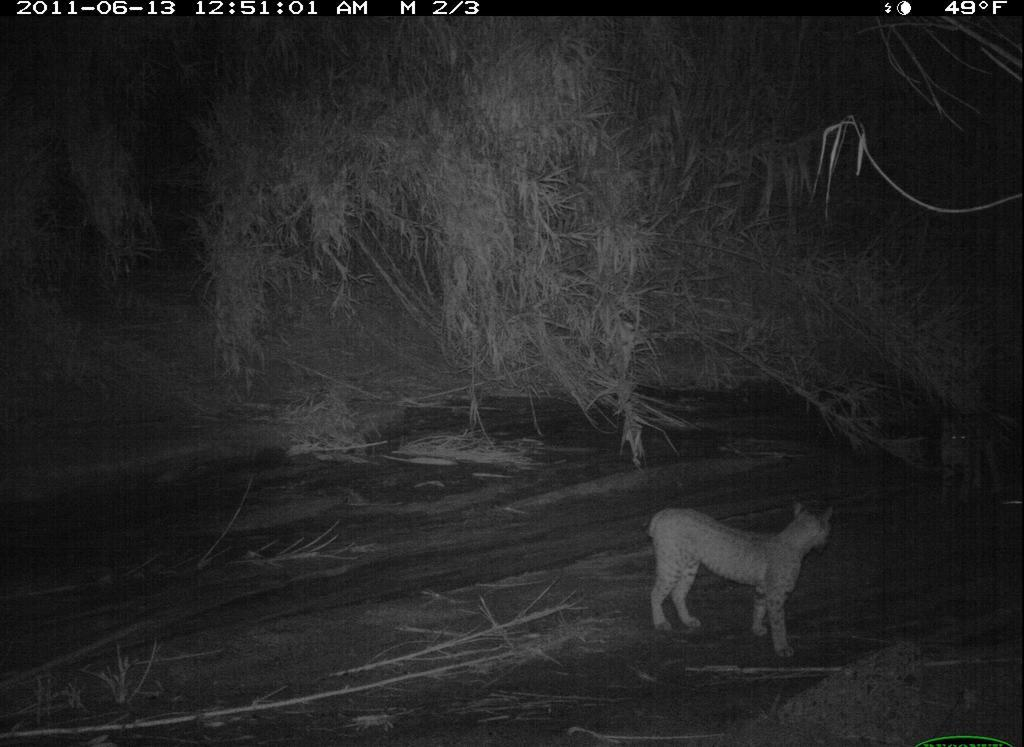bobcat: (643, 492, 840, 663), (933, 399, 1021, 521)
